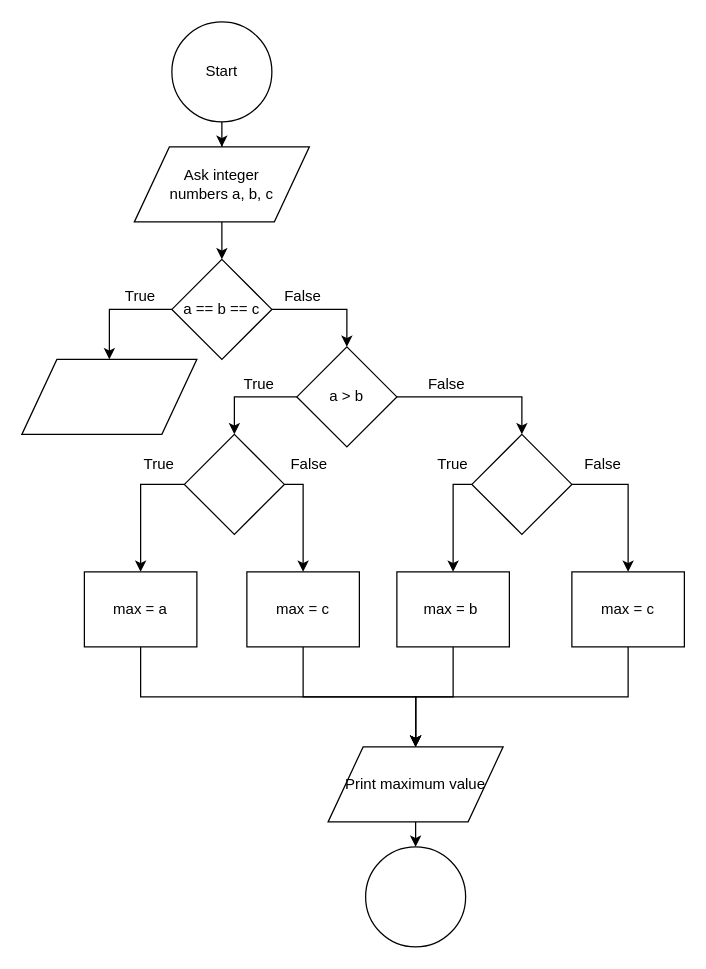
Image size: 706x969. Some labels were removed from this diagram. Here are the shapes that lost their labels. From the top down, the centre of each, then its label:
the point at 109,396: Print all numbers are equal
the point at 233,483: a > c
the point at 521,483: b > c
the point at 415,896: End
